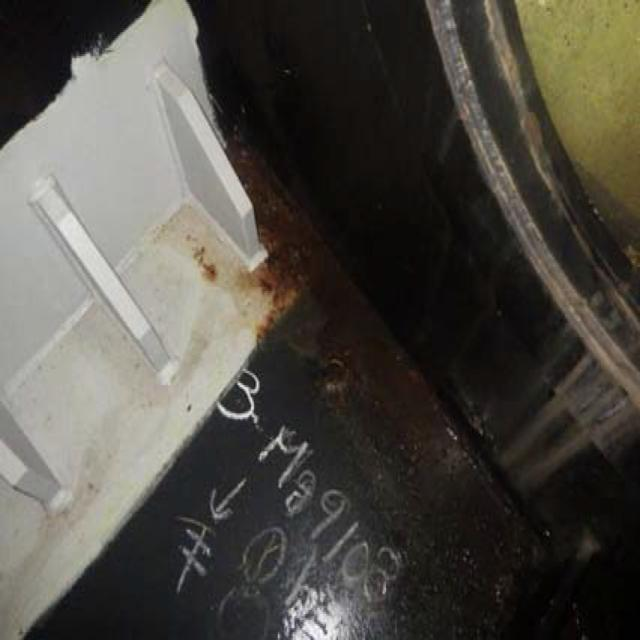corrosion: (183, 90, 341, 300)
